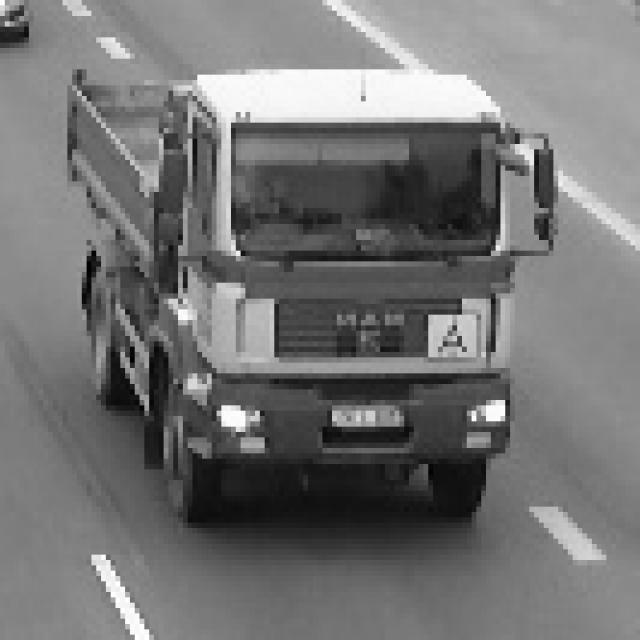truck: (135, 53, 555, 501)
